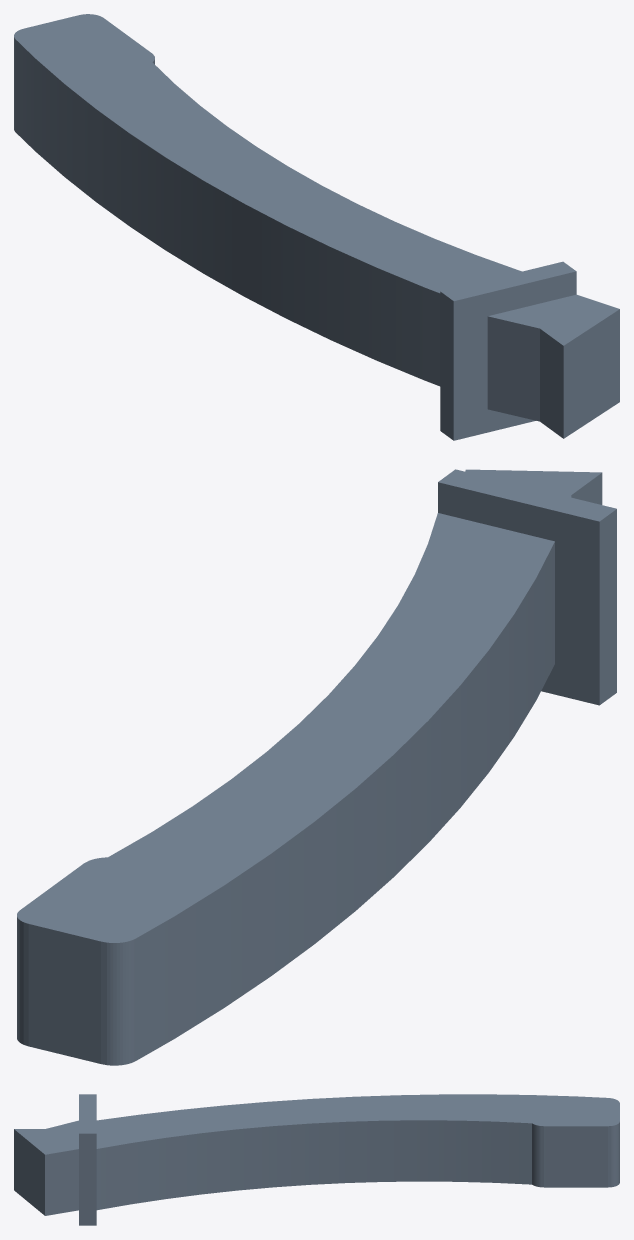
File: original-2.obj
3 renders of one model, top to bottom at view 1: azimuth 30°, elevation 25°; view 2: azimuth 150°, elevation 25°; view 3: azimuth 270°, elevation 25°, orthographic. The views are drawn at different scales.
Visible parts, largest first — view 1: Component_1_2/Component_1/mesh1/mesh1-geometry#mesh1-geometry; view 2: Component_1_2/Component_1/mesh1/mesh1-geometry#mesh1-geometry; view 3: Component_1_2/Component_1/mesh1/mesh1-geometry#mesh1-geometry.
Part boxes in pixels (x1=…): Component_1_2/Component_1/mesh1/mesh1-geometry#mesh1-geometry: x1=14, y1=14, x2=619, y2=440; Component_1_2/Component_1/mesh1/mesh1-geometry#mesh1-geometry: x1=17, y1=469, x2=616, y2=1065; Component_1_2/Component_1/mesh1/mesh1-geometry#mesh1-geometry: x1=14, y1=1094, x2=619, y2=1225.
Bounding box in the file's own units: 0.2614 × 0.1855 × 1.11.
